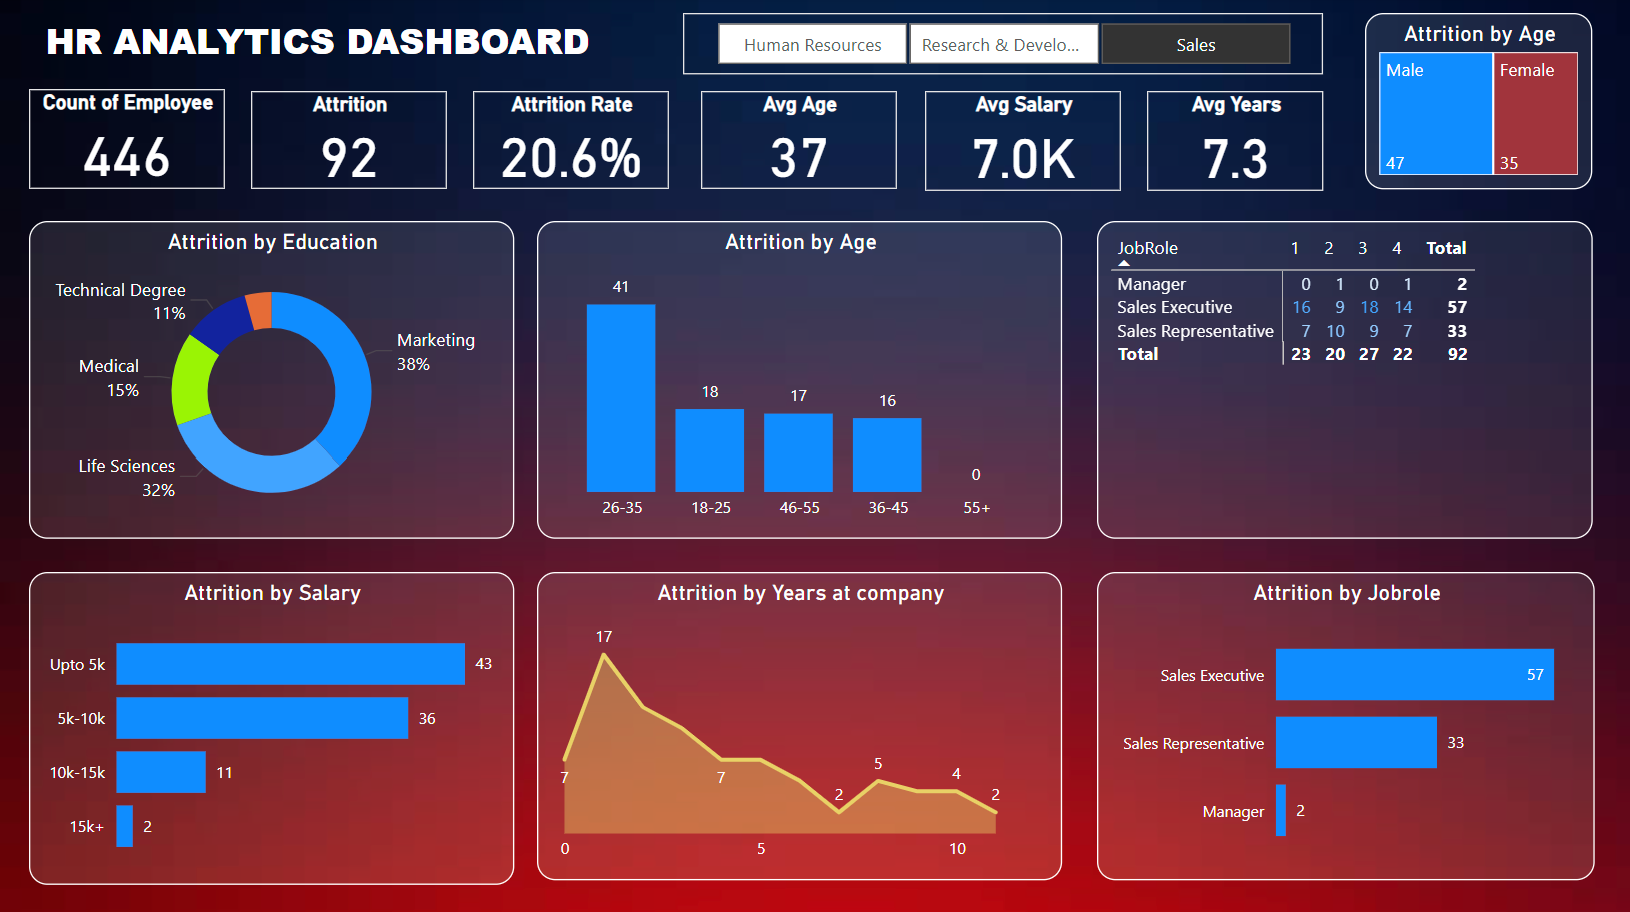

What the dashboard file says about the page in this screenshot:
{"tool":"powerbi","page":{"name":"Page 1","canvas":[1280,720],"ordinal":0},"visuals":[{"type":"card","title":"Count of Employee","fields":{"Values":["CountNonNull(HR_Analytics.EmpID)"]},"box":[22.8,71.7,149.8,76.5],"z":0},{"type":"card","title":"Attrition","fields":{"Values":["Sum(HR_Analytics.AttritionCount)"]},"box":[192.2,73.3,149.8,74.9],"z":1000},{"type":"card","title":"Attrition Rate","fields":{"Values":["HR_Analytics.AttritionRate"]},"box":[363.2,73.3,149.8,74.9],"z":2000},{"type":"card","title":"Avg Age","fields":{"Values":["Avg(HR_Analytics.Age)"]},"box":[537.4,73.3,149.8,74.9],"z":3000},{"type":"card","title":"Avg Salary","fields":{"Values":["Avg(HR_Analytics.MonthlyIncome)"]},"box":[708.4,73.3,149.8,76.5],"z":4000},{"type":"card","title":"Avg Years","fields":{"Values":["Avg(HR_Analytics.YearsAtCompany)"]},"box":[879.4,73.3,135.2,76.5],"z":5000},{"type":"donutChart","title":"Attrition by Education","fields":{"Category":["HR_Analytics.EducationField","HR_Analytics.Education"],"Y":["Sum(HR_Analytics.AttritionCount)"]},"box":[22.8,172.6,371.3,242.6],"z":6000},{"type":"columnChart","title":"Attrition by Age","fields":{"Category":["HR_Analytics.AgeGroup"],"Y":["Sum(HR_Analytics.AttritionCount)"]},"box":[412,172.6,402.2,242.6],"z":7000},{"type":"pivotTable","fields":{"Rows":["HR_Analytics.JobRole"],"Columns":["HR_Analytics.JobSatisfaction"],"Values":["Sum(HR_Analytics.AttritionCount)"]},"box":[840.3,172.6,379.4,242.6],"z":8000},{"type":"barChart","title":"Attrition by Salary","fields":{"Category":["HR_Analytics.SalarySlab"],"Y":["Sum(HR_Analytics.AttritionCount)"]},"box":[22.8,441.3,371.3,239.4],"z":9000},{"type":"barChart","title":"Attrition by Jobrole","fields":{"Category":["HR_Analytics.JobRole"],"Y":["Sum(HR_Analytics.AttritionCount)"]},"box":[840.3,441.3,381.1,236.1],"z":10000},{"type":"areaChart","title":"Attrition by Years at company","fields":{"Category":["HR_Analytics.YearsAtCompany"],"Y":["Sum(HR_Analytics.AttritionCount)"]},"box":[412,441.3,402.2,236.1],"z":11000},{"type":"treemap","title":"Attrition by Age","fields":{"Group":["HR_Analytics.Gender"],"Values":["Sum(HR_Analytics.AttritionCount)"]},"box":[1045.5,13,174.2,135.2],"z":12000},{"type":"slicer","fields":{"Values":["HR_Analytics.Department"]},"box":[524.4,13,490.2,47.2],"z":13000},{"type":"textbox","box":[30.9,11.4,457.6,61.9],"z":14000}]}

Visuals, with their boxes in screenshot pixels (x1, y1, x2, y2), scaled from the page's 1280x720 canvas onto the 1630x912 screenshot:
"Count of Employee" card: (29, 91, 220, 188)
"Attrition" card: (245, 93, 436, 188)
"Attrition Rate" card: (463, 93, 653, 188)
"Avg Age" card: (684, 93, 875, 188)
"Avg Salary" card: (902, 93, 1093, 190)
"Avg Years" card: (1120, 93, 1292, 190)
"Attrition by Education" donutChart: (29, 219, 502, 526)
"Attrition by Age" columnChart: (525, 219, 1037, 526)
pivotTable - HR_Analytics.JobRole x HR_Analytics.JobSatisfaction: (1070, 219, 1553, 526)
"Attrition by Salary" barChart: (29, 559, 502, 862)
"Attrition by Jobrole" barChart: (1070, 559, 1555, 858)
"Attrition by Years at company" areaChart: (525, 559, 1037, 858)
"Attrition by Age" treemap: (1331, 16, 1553, 188)
slicer - HR_Analytics.Department: (668, 16, 1292, 76)
textbox: (39, 14, 622, 93)
